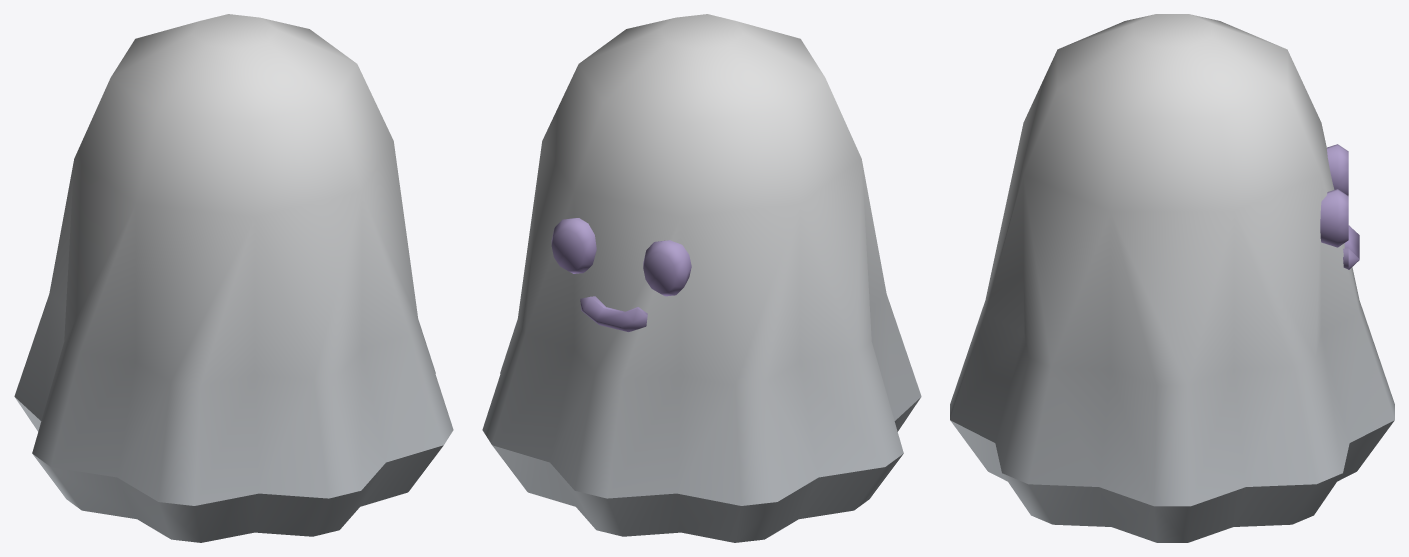
The model's file is plush-ghost.glb.
3 renders of one model, left to right at view 1: azimuth 30°, elevation 25°; view 2: azimuth 150°, elevation 25°; view 3: azimuth 270°, elevation 25°, orthographic.
Parts seen in each view (by area): view 1: plush-ghost; view 2: plush-ghost; view 3: plush-ghost.
Boxes of the visible parts, x1,y1,x2,y2 form: plush-ghost: [14, 14, 453, 542]; plush-ghost: [482, 14, 921, 542]; plush-ghost: [950, 14, 1394, 542].
Bounding box in the file's own units: 0.3759 × 0.4049 × 0.3759.
